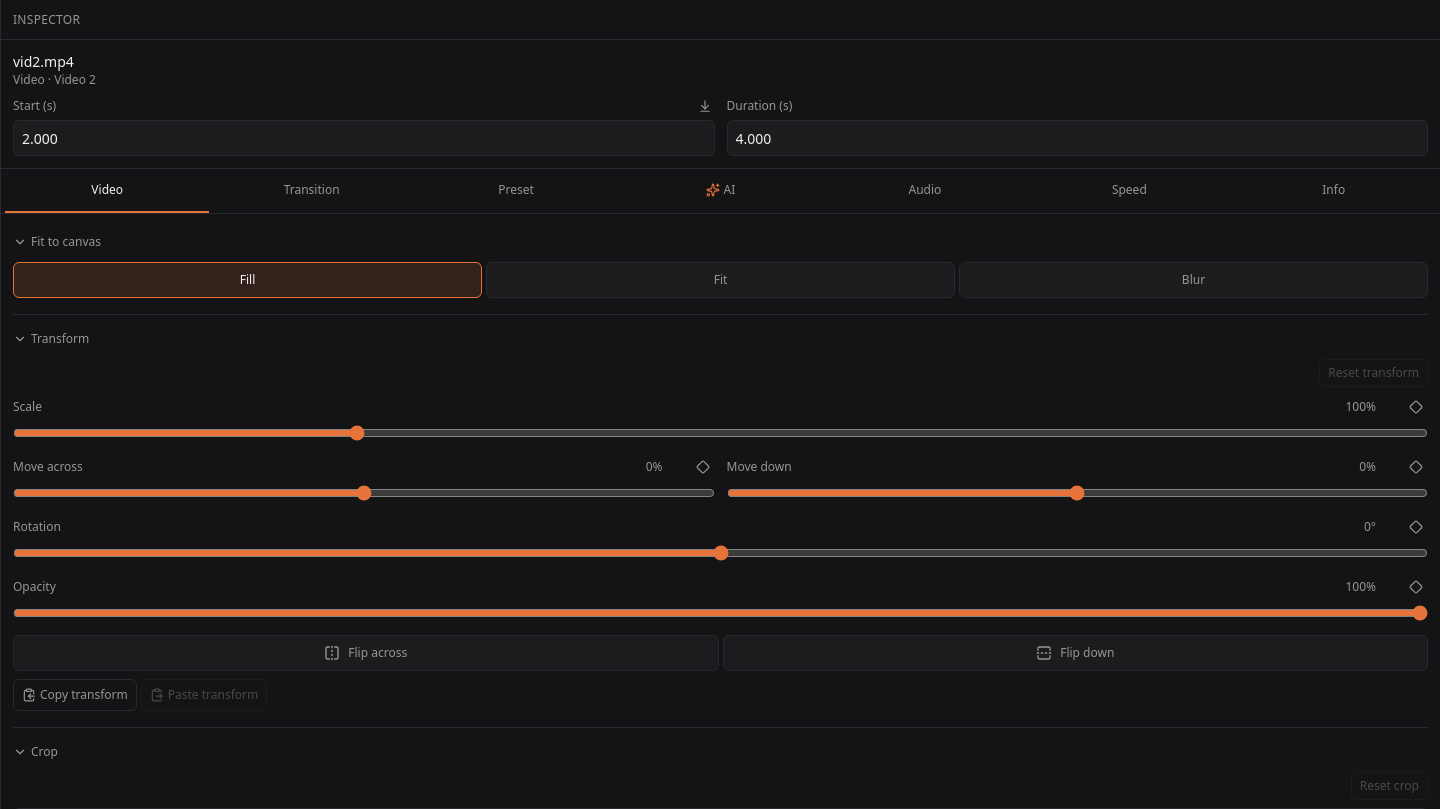
scrubbing a number by its label › changes a transform value one unit per two pixels, as one undo step on release
Press the mouse on the text "Rotation": (37, 527) [13,519,61,535]
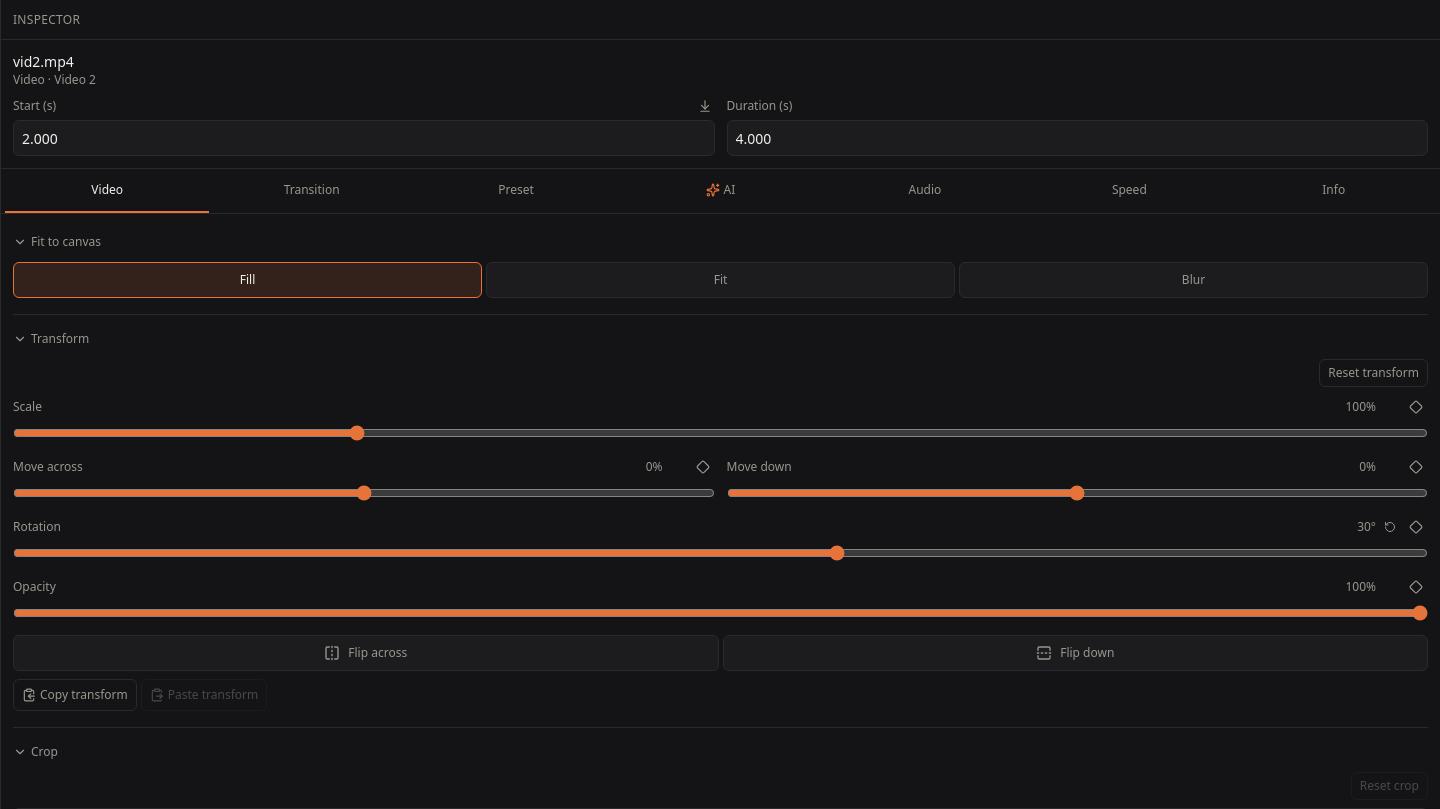
Result: the slider labelled "Rotation" holds "30" at [13,545,1428,561]
Press the mouse on the text "Rotation": (37, 527) [13,519,61,535]
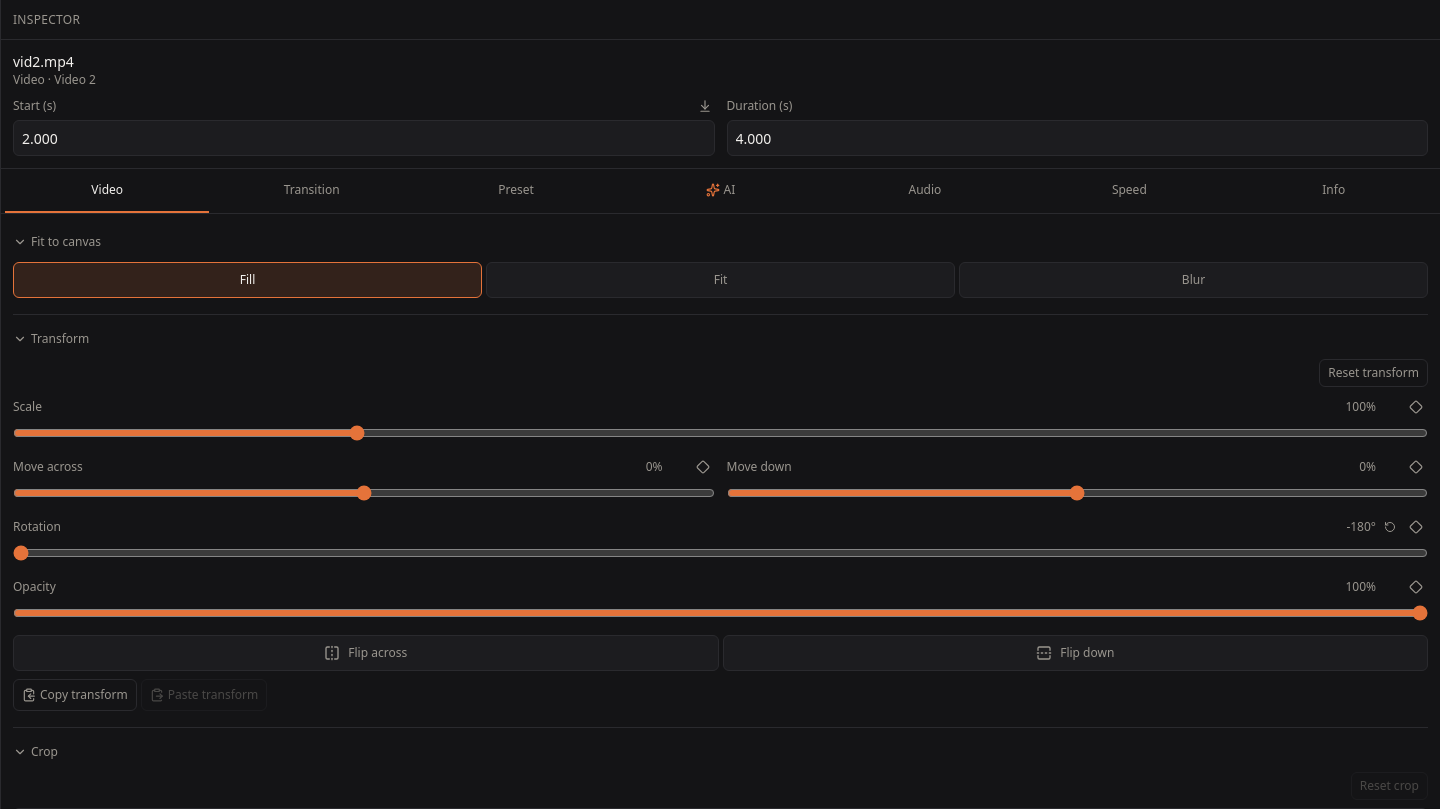
Press the mouse on the text "Rotation": (37, 527) [13,519,61,535]
Press the mouse on the text "Rotation": (37, 527) [13,519,61,535]
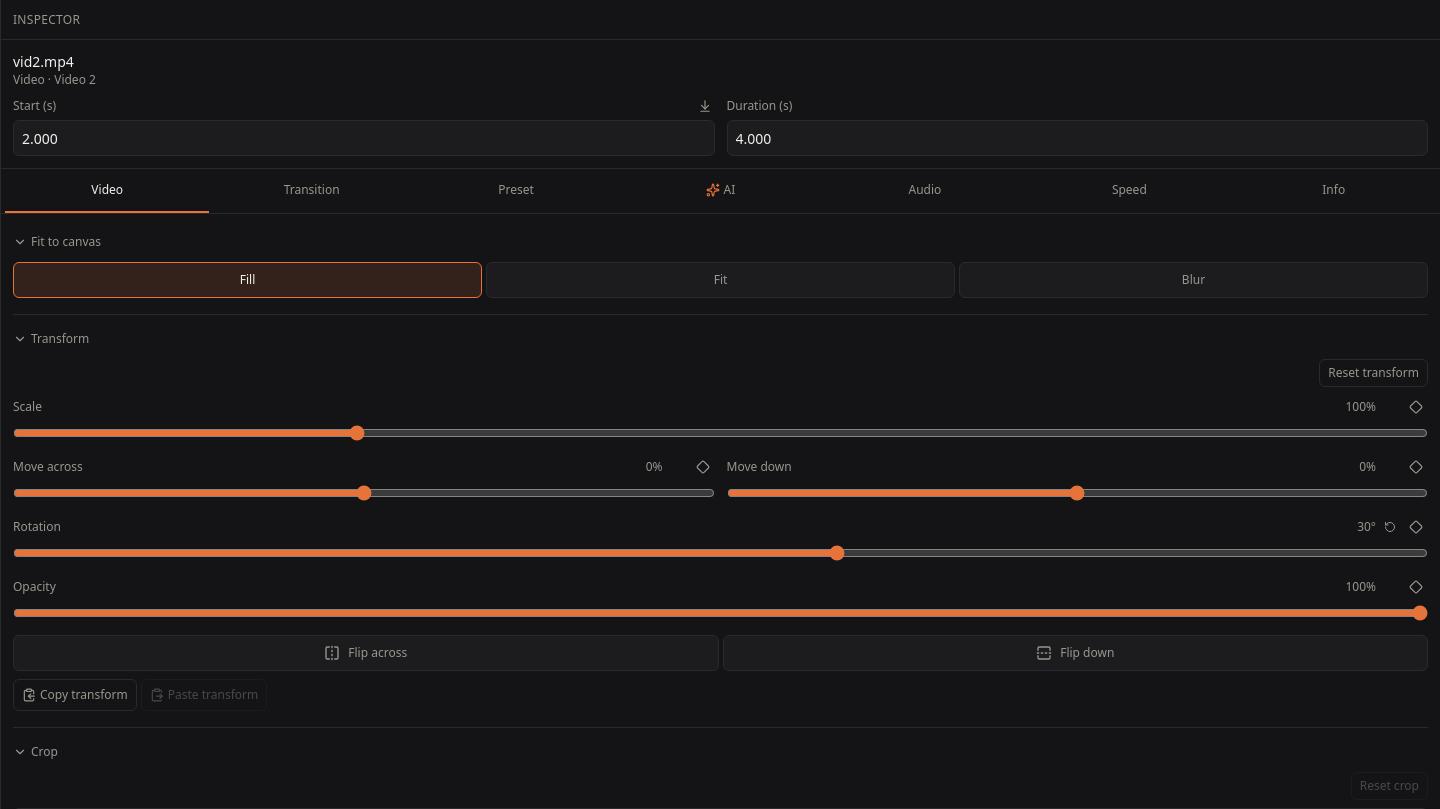
Result: the slider labelled "Rotation" holds "30" at [13,545,1428,561]
